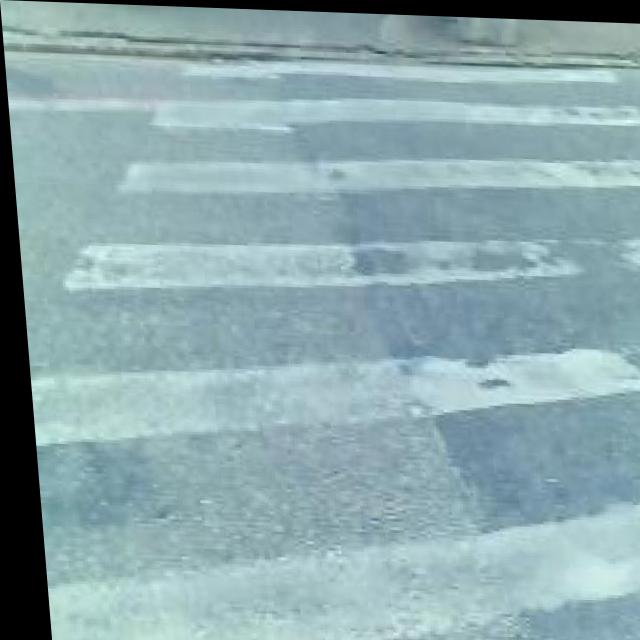zebra: (144, 88, 640, 634)
